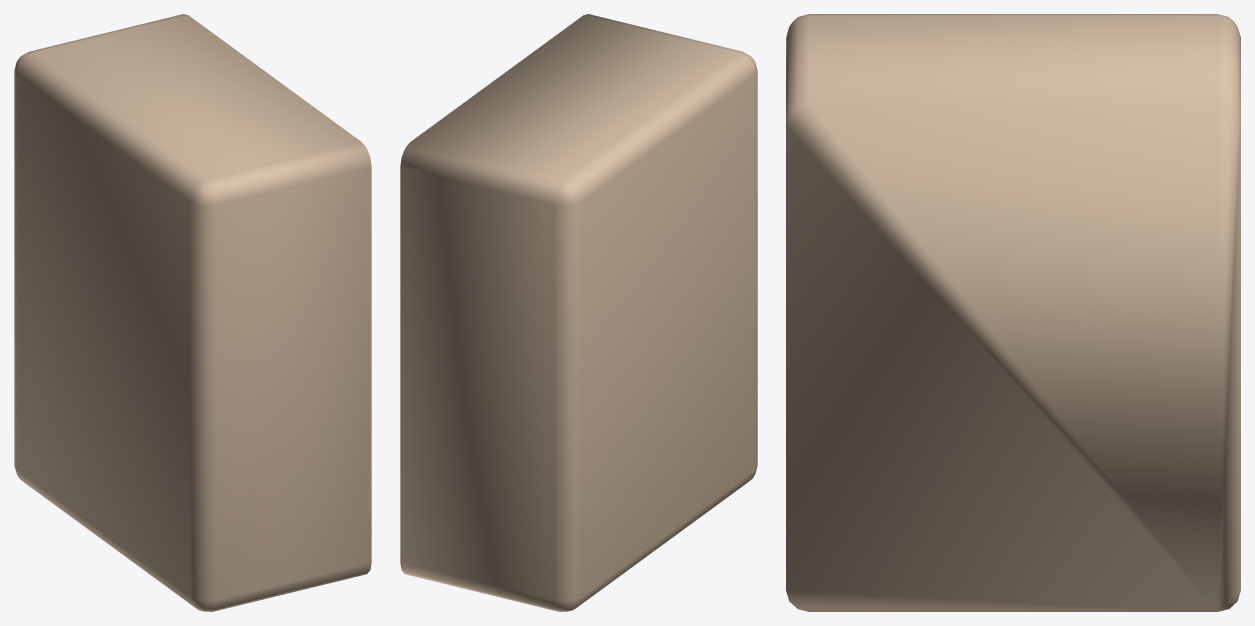
The model's file is big_shroud.obj.
The picture shows the model from 3 angles, left to right: view 1: azimuth 30°, elevation 25°; view 2: azimuth 150°, elevation 25°; view 3: azimuth 270°, elevation 25°; orthographic projection. The views are drawn at different scales.
Visible parts, largest first — view 1: Cube28; view 2: Cube28; view 3: Cube28.
Boxes of the visible parts, bbox=[...] form: Cube28: bbox=[14, 14, 371, 611]; Cube28: bbox=[400, 14, 757, 611]; Cube28: bbox=[786, 14, 1240, 611].
Size of the model in its own units: 0.5 by 1.2 by 0.975.
